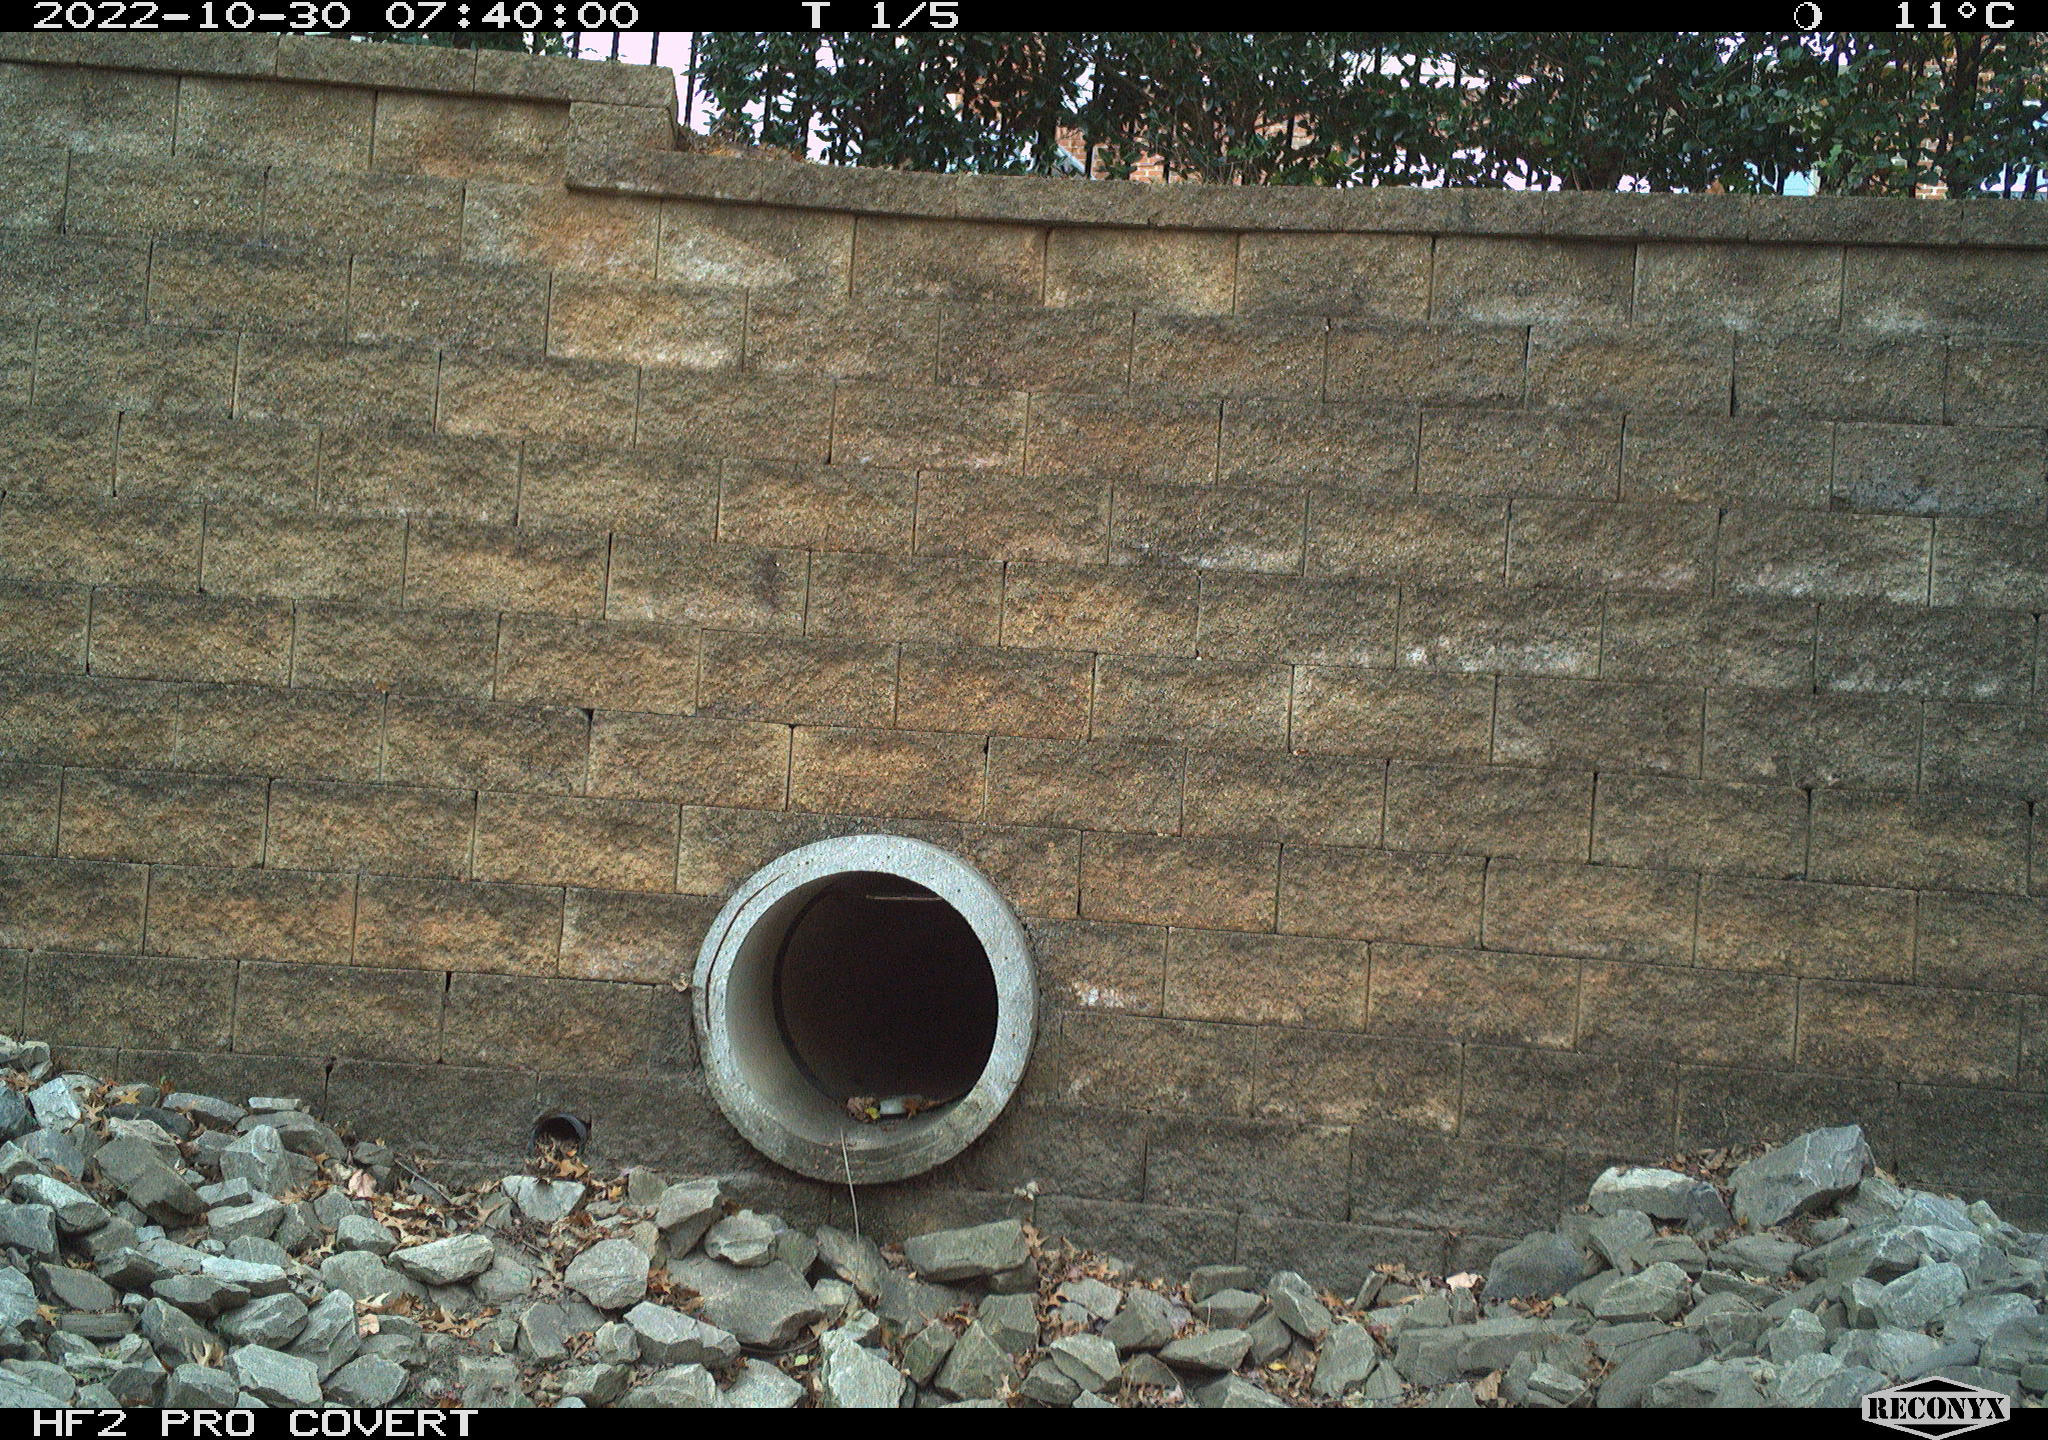Empty Outlet: (725, 871, 998, 1149)
